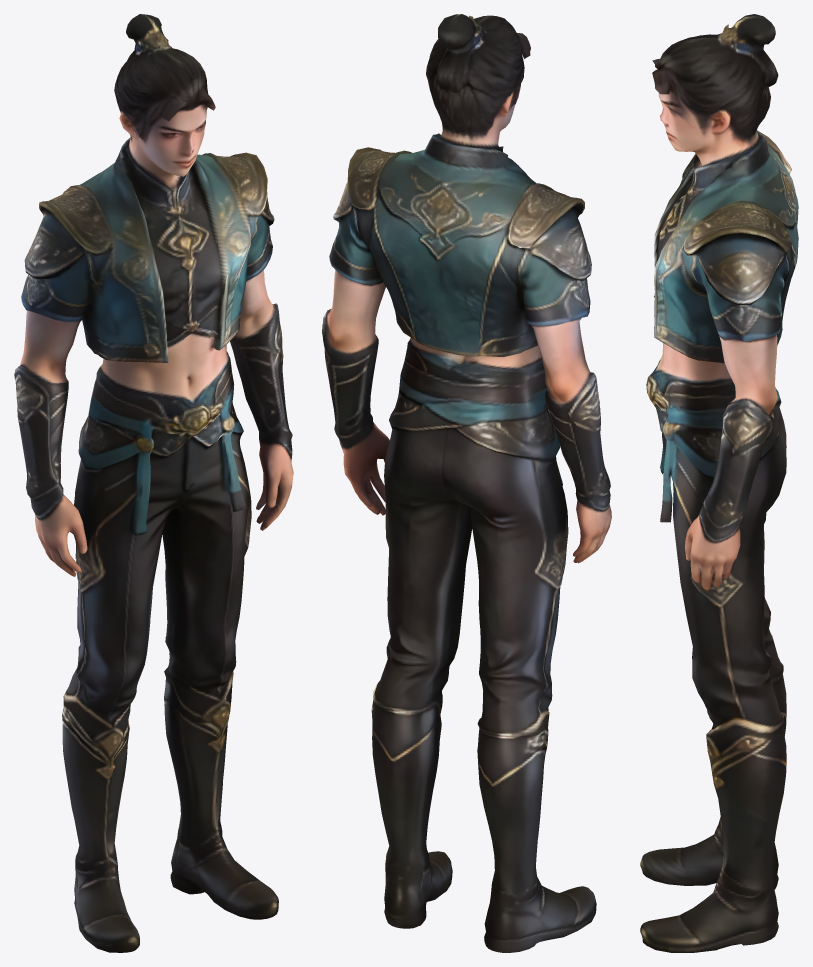
The model's file is base_basic_shaded.fbx.
3 views of the same model, side by side, from view 1: azimuth 30°, elevation 25°; view 2: azimuth 150°, elevation 25°; view 3: azimuth 270°, elevation 25° (orthographic). The views are drawn at different scales.
Parts seen in each view (by area): view 1: model; view 2: model; view 3: model.
Part boxes in pixels (box(x1,y1,x2,y2)): model: box(14, 14, 293, 952); model: box(322, 14, 611, 952); model: box(640, 14, 798, 952).
Bounding box in the file's own units: 58.43 × 189 × 30.16.
